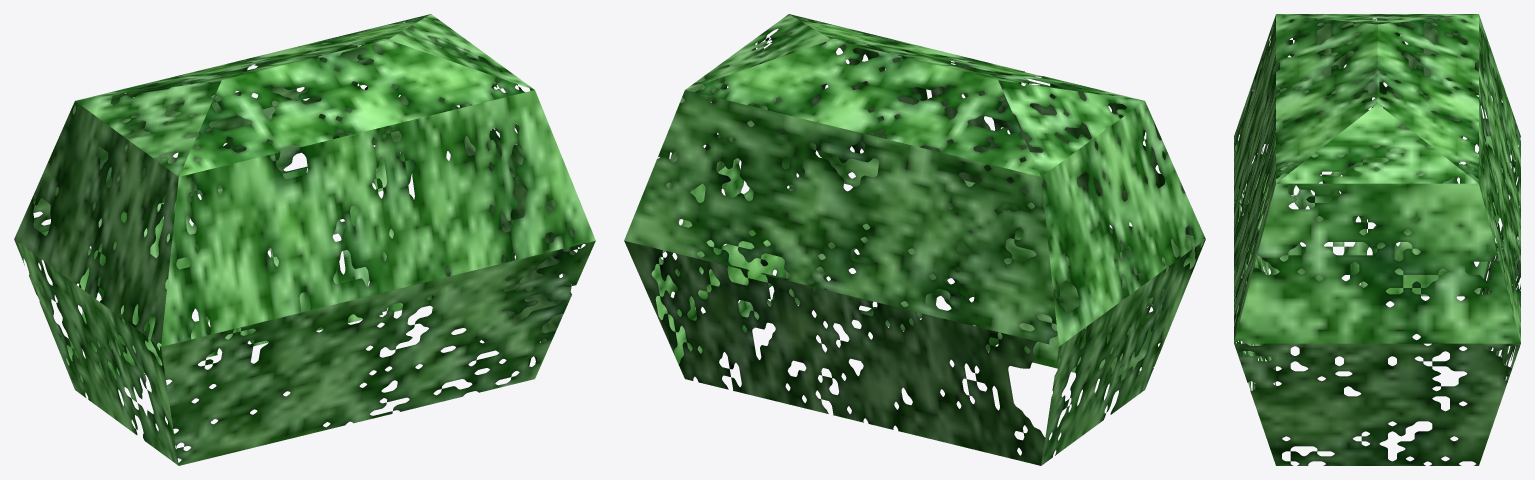
Rendered from bush_long_half_single_spring.fbx.
3 renders of one model, left to right at view 1: azimuth 30°, elevation 25°; view 2: azimuth 150°, elevation 25°; view 3: azimuth 270°, elevation 25°, orthographic. The views are drawn at different scales.
Parts seen in each view (by area): view 1: bush_long_half_single_spring; view 2: bush_long_half_single_spring; view 3: bush_long_half_single_spring.
Boxes of the visible parts, x1,y1,x2,y2 form: bush_long_half_single_spring: (14,14,595,465); bush_long_half_single_spring: (624,14,1205,465); bush_long_half_single_spring: (1234,14,1520,465).
Size of the model in its own units: 123 by 87.65 by 71.91.
1 material, 1 textured.
